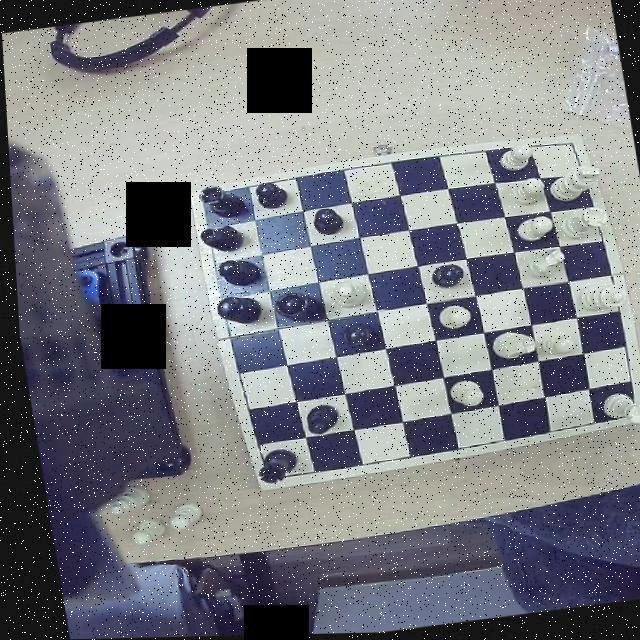chess-table-corners: (250, 453, 282, 488), (192, 186, 222, 220), (608, 396, 639, 428), (554, 136, 582, 162)
